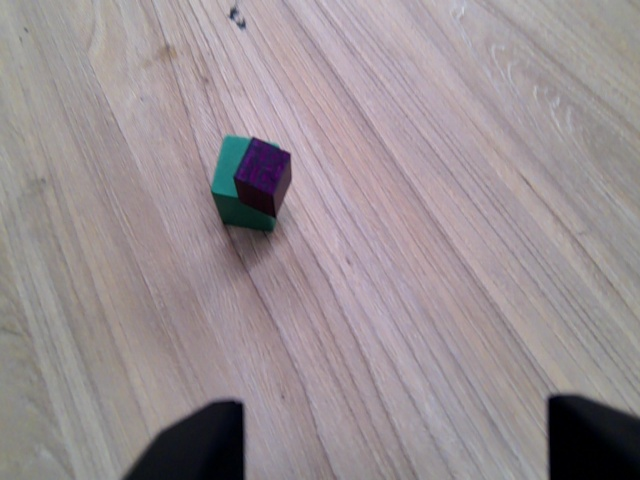brick: (232, 135, 294, 219)
